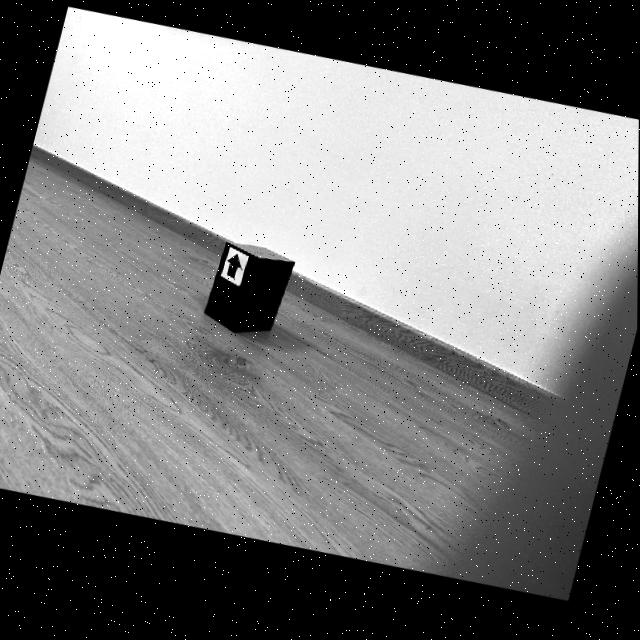UP: (227, 257, 242, 281)
